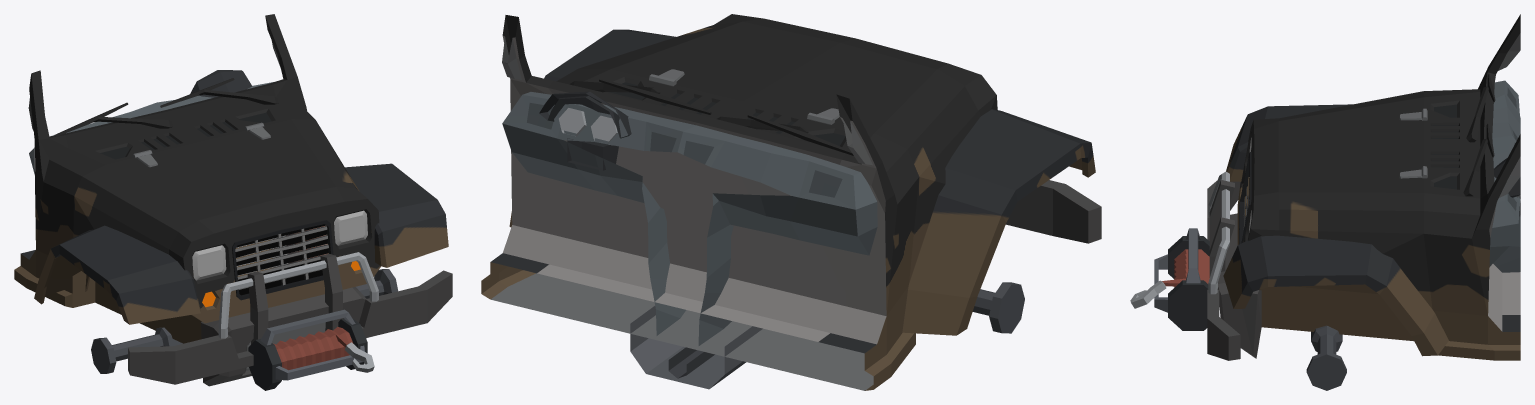
The model's file is zzz.fbx.
3 views of the same model, side by side, from view 1: azimuth 30°, elevation 25°; view 2: azimuth 150°, elevation 25°; view 3: azimuth 270°, elevation 25° (orthographic). The views are drawn at different scales.
Visible parts, largest first — view 1: SK_Veh_4x4_Car_Alt_01_positive; view 2: SK_Veh_4x4_Car_Alt_01_positive; view 3: SK_Veh_4x4_Car_Alt_01_positive.
Boxes of the visible parts, x1=… form: SK_Veh_4x4_Car_Alt_01_positive: x1=14, y1=14, x2=452, y2=390; SK_Veh_4x4_Car_Alt_01_positive: x1=481, y1=14, x2=1101, y2=390; SK_Veh_4x4_Car_Alt_01_positive: x1=1130, y1=14, x2=1520, y2=390.
Size of the model in its own units: 228 by 154 by 219.
